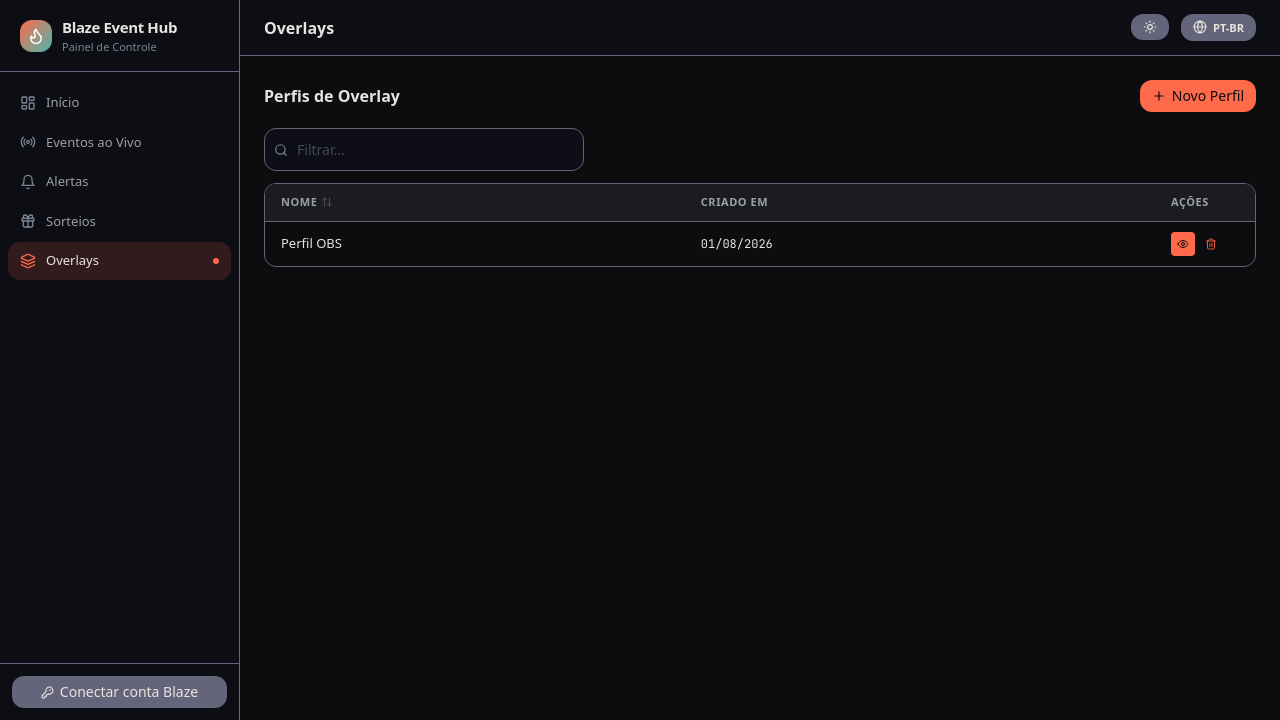
Test case: Overlays › deletes an overlay, toasts success and removes the row
This screenshot has width=1280, height=720.
What coordinates should you click on to do the following:
click the button named "Ver overlays de Perfil OBS"
I would click on:
 (1183, 244)
Its box is [1171,232,1195,256].
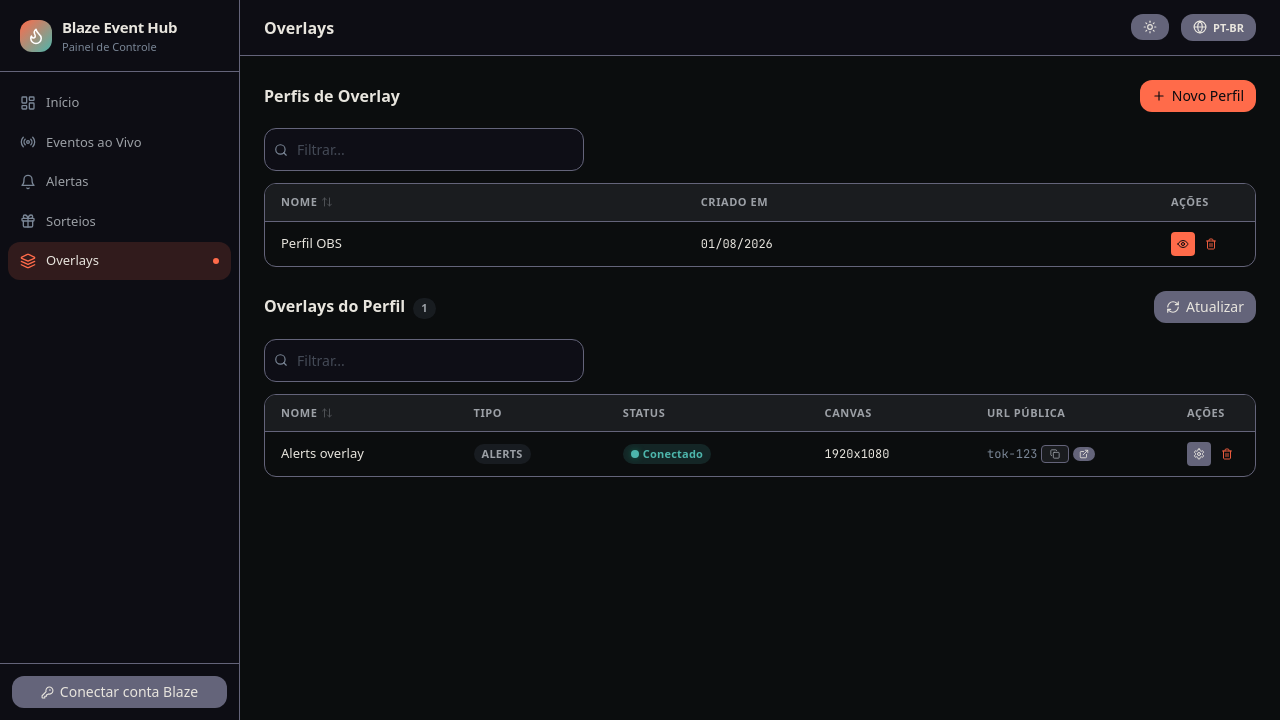
Now the text "Alerts overlay" is shown, box [265,432,458,476]
What coordinates should you click on to do the following:
click the button named "Remover overlay Alerts overlay"
I would click on:
 (1227, 454)
Its box is [1215,442,1239,466].
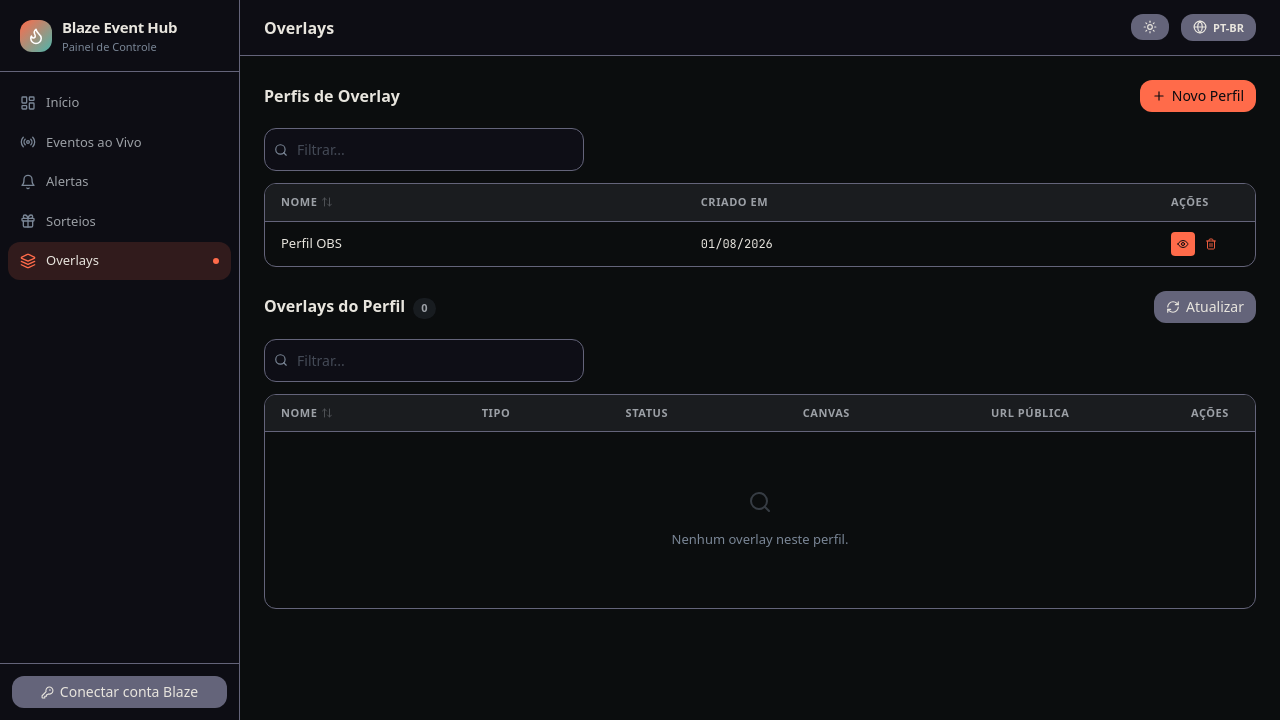
Now the text "Alerts overlay" is gone
